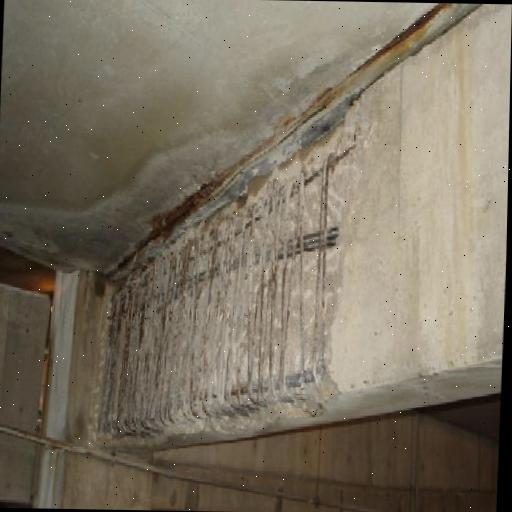spalling: (102, 143, 355, 435)
